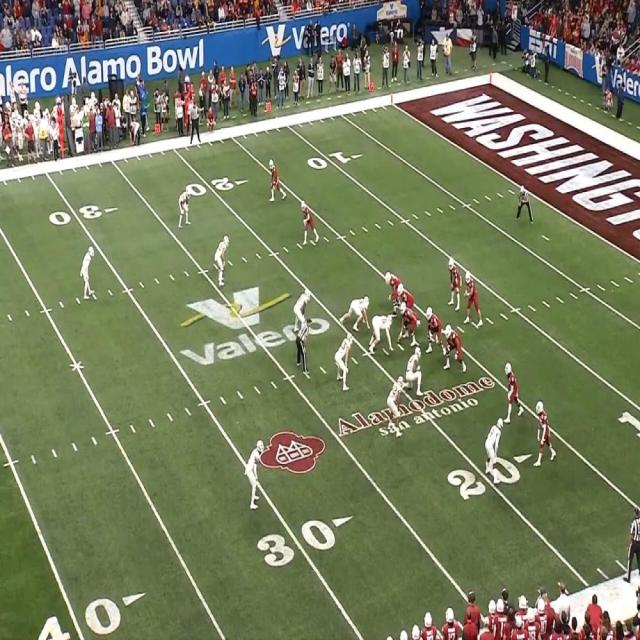center: (396, 302, 418, 343)
db: (242, 438, 261, 508), (388, 374, 406, 429), (488, 417, 502, 478), (82, 245, 95, 295), (178, 193, 190, 227)
lb: (337, 334, 352, 388), (216, 238, 228, 286), (296, 285, 310, 322)
qb: (464, 270, 480, 324)
